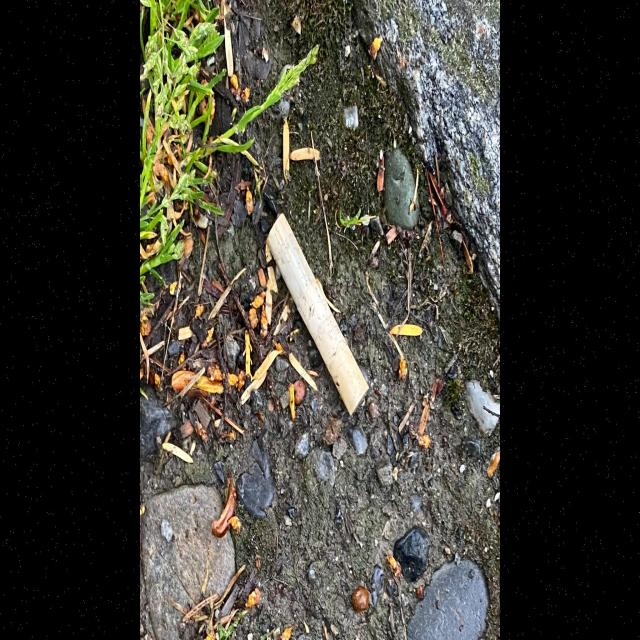other waste: (265, 211, 370, 417)
